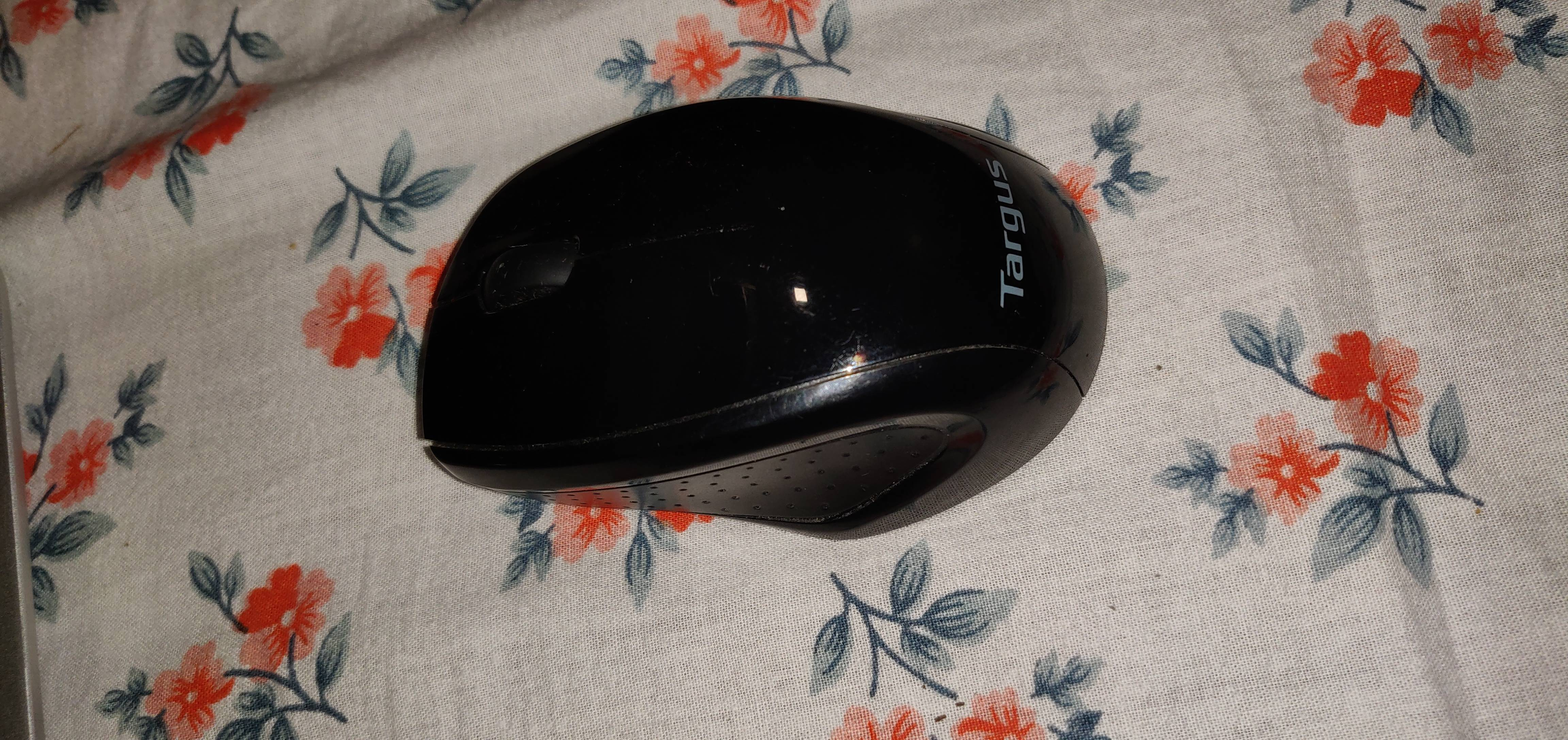Electronics: (394, 74, 1130, 579)
